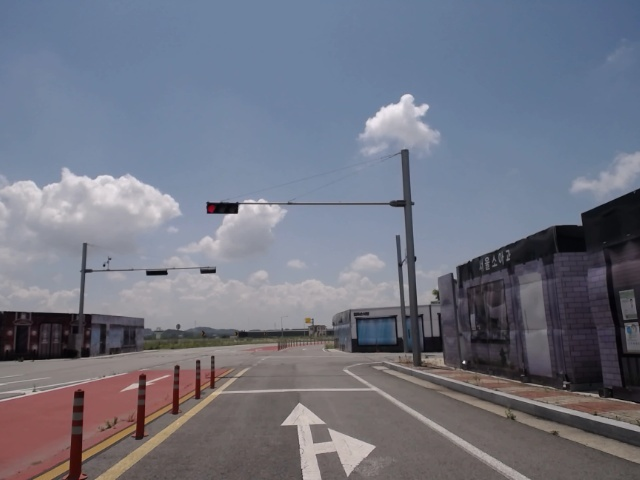red_3: (205, 200, 239, 215)
